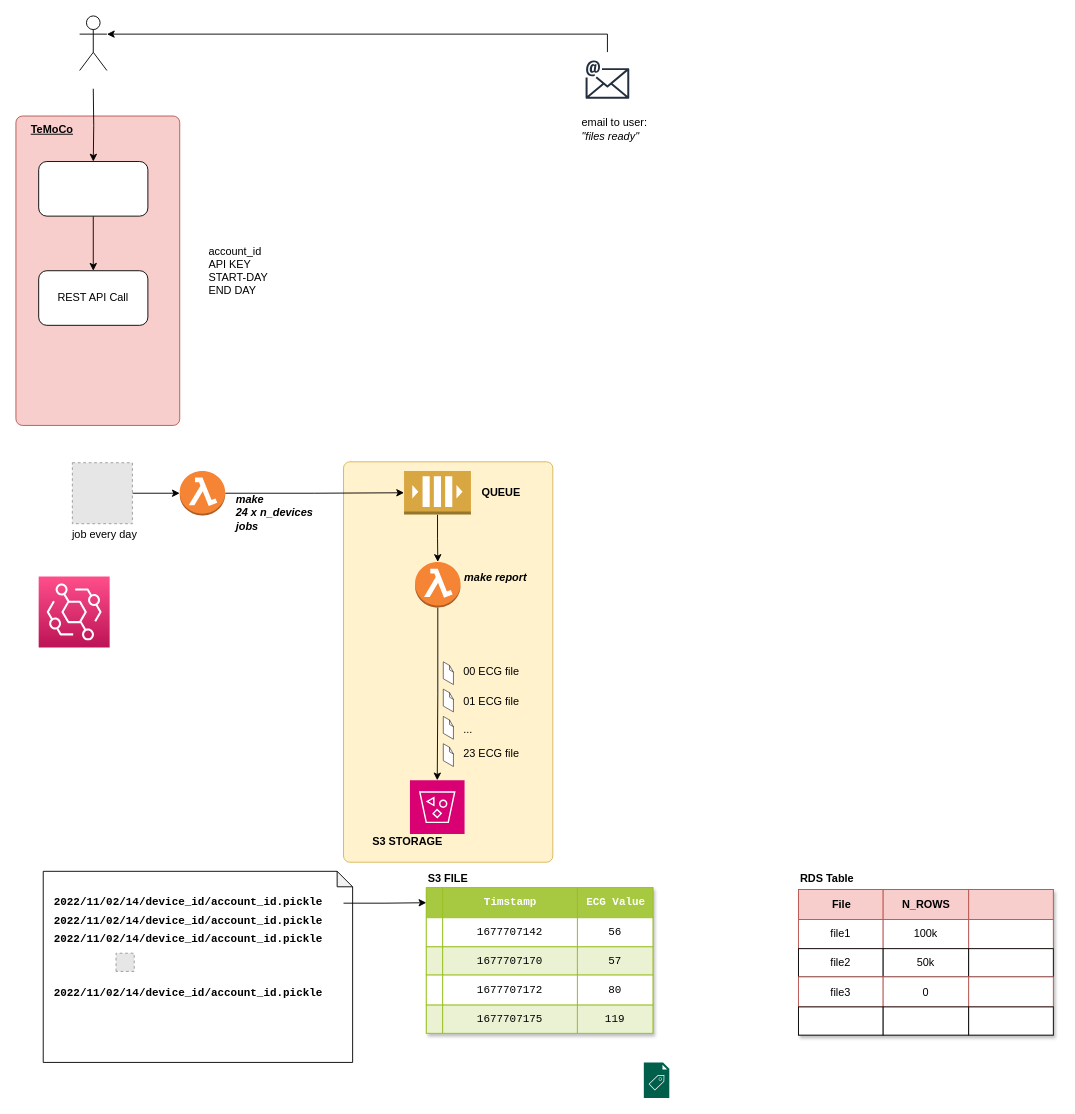
The diagram is 1075 pixels wide and 1114 high, and some of its shapes have lost their labels. Grey dashed boxes stand in for pictures. Each missing label, with the centre of its shape:
Logged User (GAIA): the point at 93,43
Request ECG Data start_day end_day: the point at 93,188
